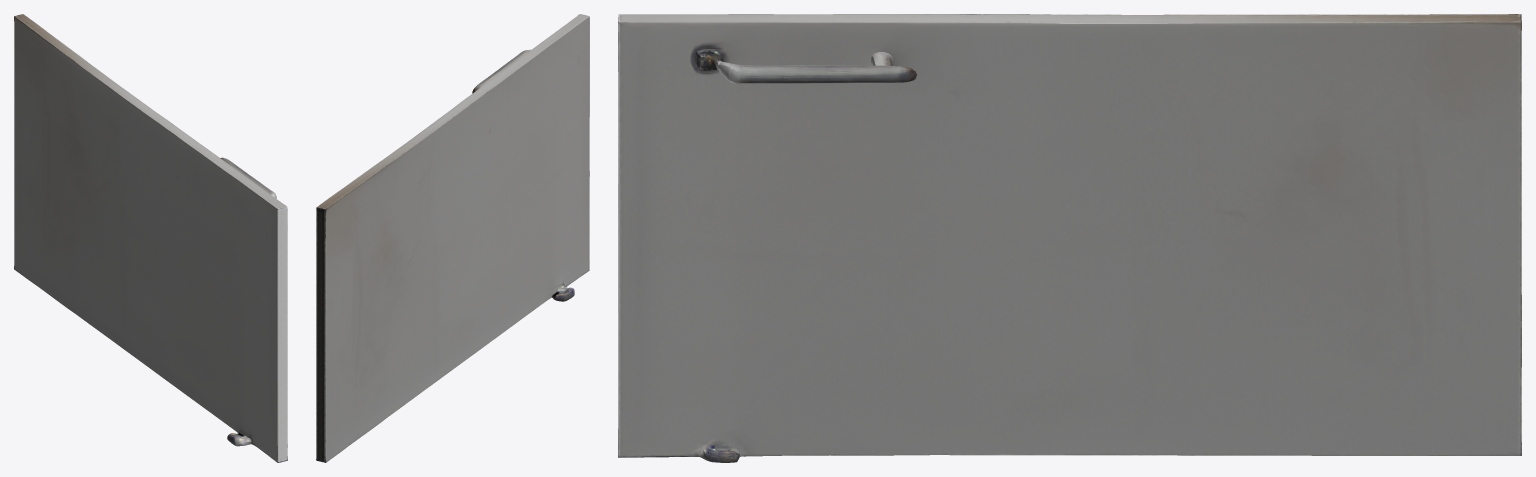
The model's file is door_1.dae.
The picture shows the model from 3 angles, left to right: view 1: azimuth 30°, elevation 25°; view 2: azimuth 150°, elevation 25°; view 3: azimuth 270°, elevation 25°; orthographic projection. The views are drawn at different scales.
Parts seen in each view (by area): view 1: node_7d9666e2_8c56_452a_9734_2e0fb3073756_mesh0; view 2: node_7d9666e2_8c56_452a_9734_2e0fb3073756_mesh0; view 3: node_7d9666e2_8c56_452a_9734_2e0fb3073756_mesh0.
Part boxes in pixels (x1,y1,x2,y2): node_7d9666e2_8c56_452a_9734_2e0fb3073756_mesh0: (14, 14, 287, 462); node_7d9666e2_8c56_452a_9734_2e0fb3073756_mesh0: (316, 14, 589, 462); node_7d9666e2_8c56_452a_9734_2e0fb3073756_mesh0: (618, 14, 1521, 462).
Bounding box in the file's own units: 0.0898 × 0.4561 × 0.8542.
1 material, 1 textured.
